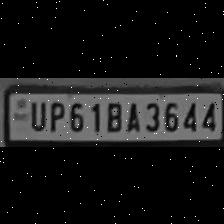1: (86, 99, 104, 131)
3: (142, 96, 160, 132)
4: (198, 96, 216, 130), (180, 98, 198, 130)
6: (65, 98, 85, 132), (160, 98, 178, 132)
A: (123, 98, 141, 132)
B: (103, 98, 123, 132)
P: (46, 98, 64, 132)
U: (27, 96, 46, 130)
